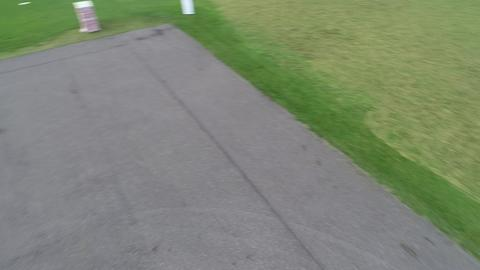RockwoolPallet: (71, 1, 100, 33)
